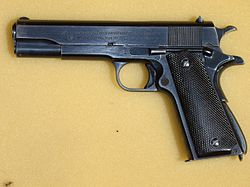Arma Real: (12, 15, 247, 162)
